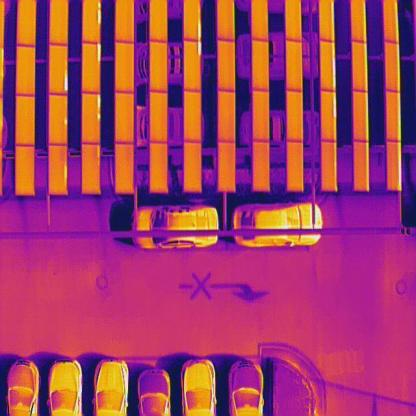Cell: (49, 94, 68, 146)
No-Anomaly: (82, 142, 102, 195), (15, 146, 36, 196), (217, 39, 236, 92), (16, 95, 36, 145), (115, 144, 135, 194), (116, 92, 135, 144), (184, 89, 202, 143), (217, 89, 235, 143), (252, 90, 270, 143), (352, 90, 370, 142), (384, 90, 402, 142), (150, 91, 168, 143), (252, 40, 270, 92), (218, 141, 236, 192), (150, 143, 168, 194), (184, 142, 202, 192), (150, 41, 168, 91), (116, 42, 134, 92), (286, 40, 303, 92), (18, 46, 36, 95), (49, 0, 68, 46), (253, 142, 270, 192), (384, 42, 401, 92), (287, 90, 303, 142), (320, 140, 336, 192), (352, 40, 368, 91), (18, 0, 36, 45), (287, 142, 303, 192), (354, 140, 369, 191), (116, 0, 134, 42), (149, 0, 167, 41), (217, 0, 235, 40), (286, 0, 303, 41), (252, 0, 269, 40), (351, 0, 367, 42), (320, 0, 336, 41), (384, 0, 399, 42)
Unclassified: (81, 43, 101, 93), (49, 45, 69, 95), (184, 40, 203, 90), (82, 93, 100, 144), (50, 145, 68, 194), (82, 0, 102, 43), (320, 40, 336, 92), (386, 140, 402, 191), (321, 90, 336, 142), (184, 0, 202, 41)
